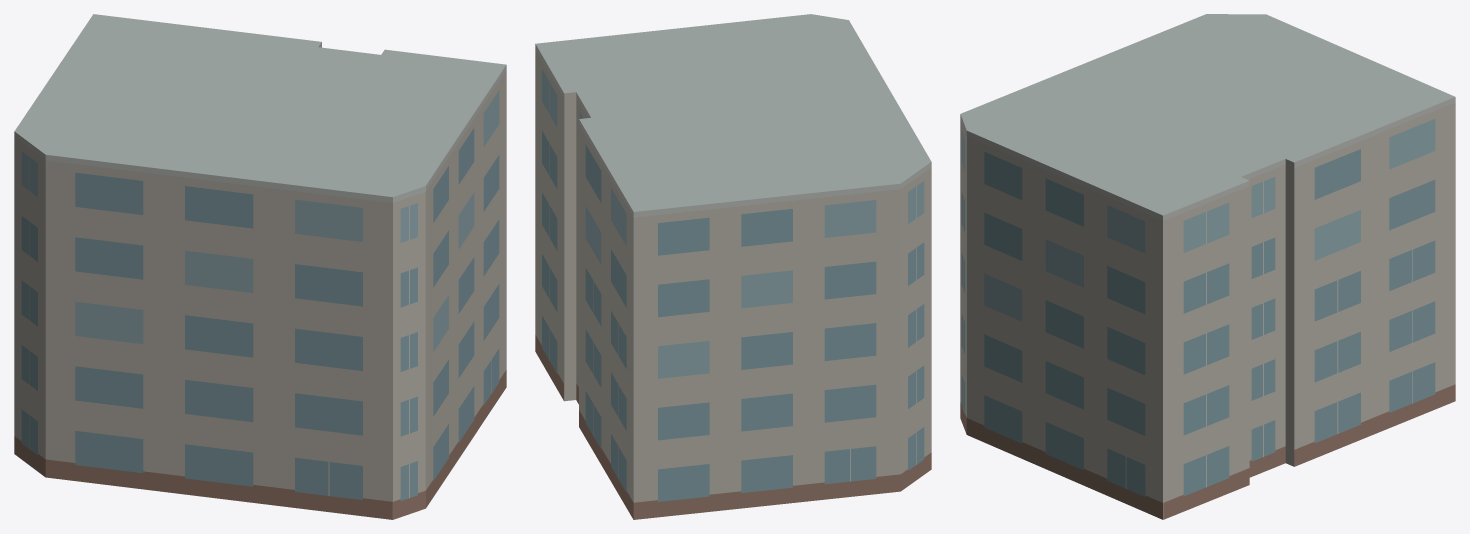
File: survey-upis-32693889.glb
3 renders of one model, left to right at view 1: azimuth 30°, elevation 25°; view 2: azimuth 150°, elevation 25°; view 3: azimuth 270°, elevation 25°, orthographic. The views are drawn at different scales.
Visible parts, largest first — view 1: survey-upis-32693889.tmp; view 2: survey-upis-32693889.tmp; view 3: survey-upis-32693889.tmp.
Part boxes in pixels (x1,y1,x2,y2): survey-upis-32693889.tmp: (14,14,506,519); survey-upis-32693889.tmp: (535,14,931,519); survey-upis-32693889.tmp: (960,14,1455,519).
Size of the model in its own units: 19.33 by 13.6 by 20.07.
